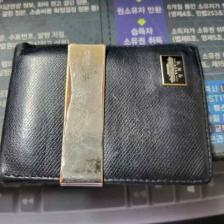wallet: (2, 40, 214, 186)
